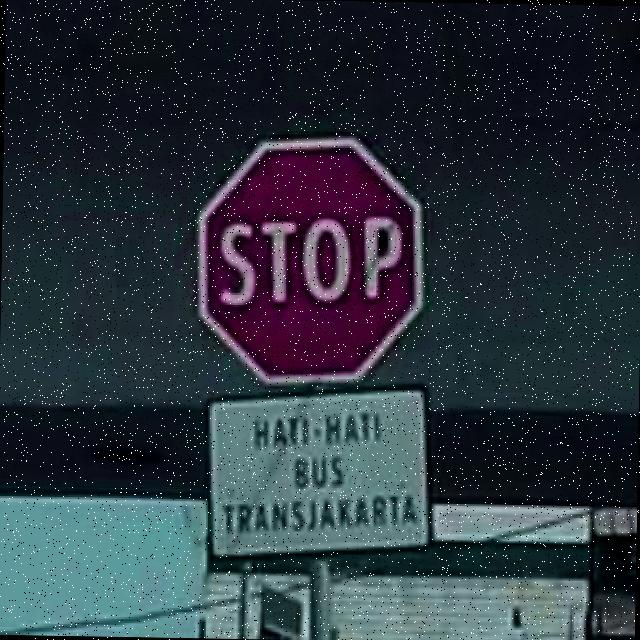Stop: (201, 145, 429, 383)
